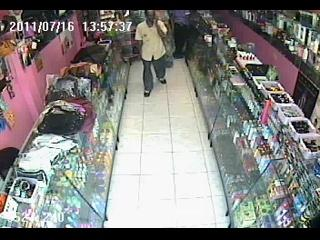Normal: (134, 11, 170, 98)
